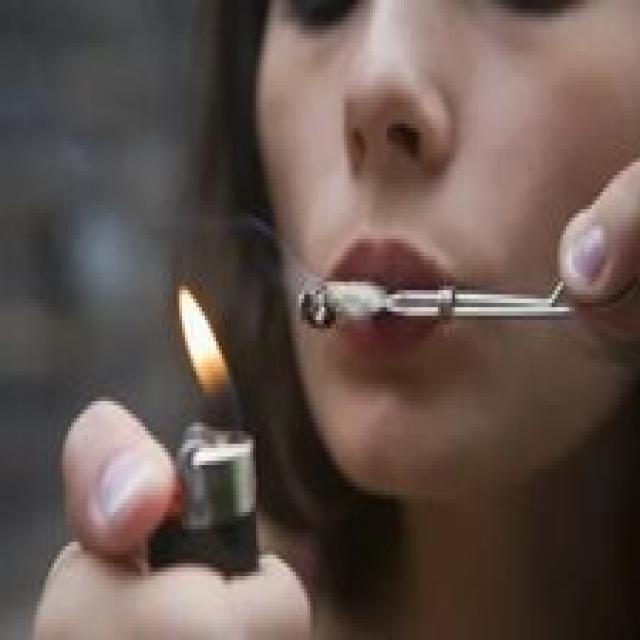cigarette: (293, 269, 390, 337)
